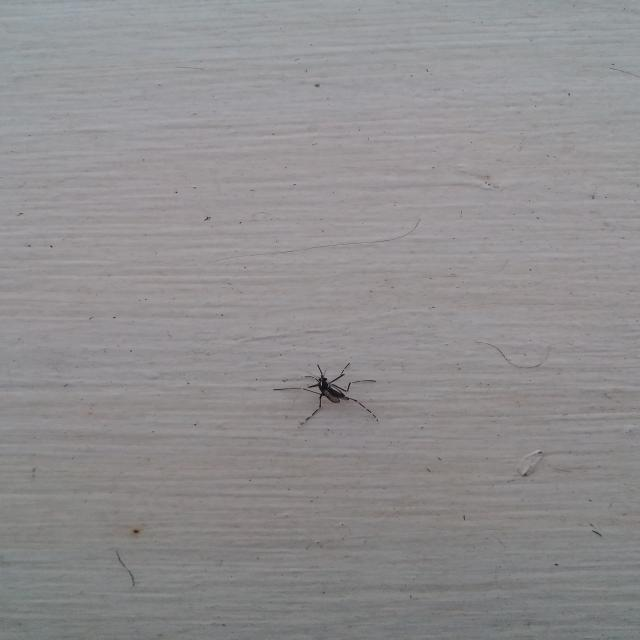albopictus: (279, 358, 379, 427)
